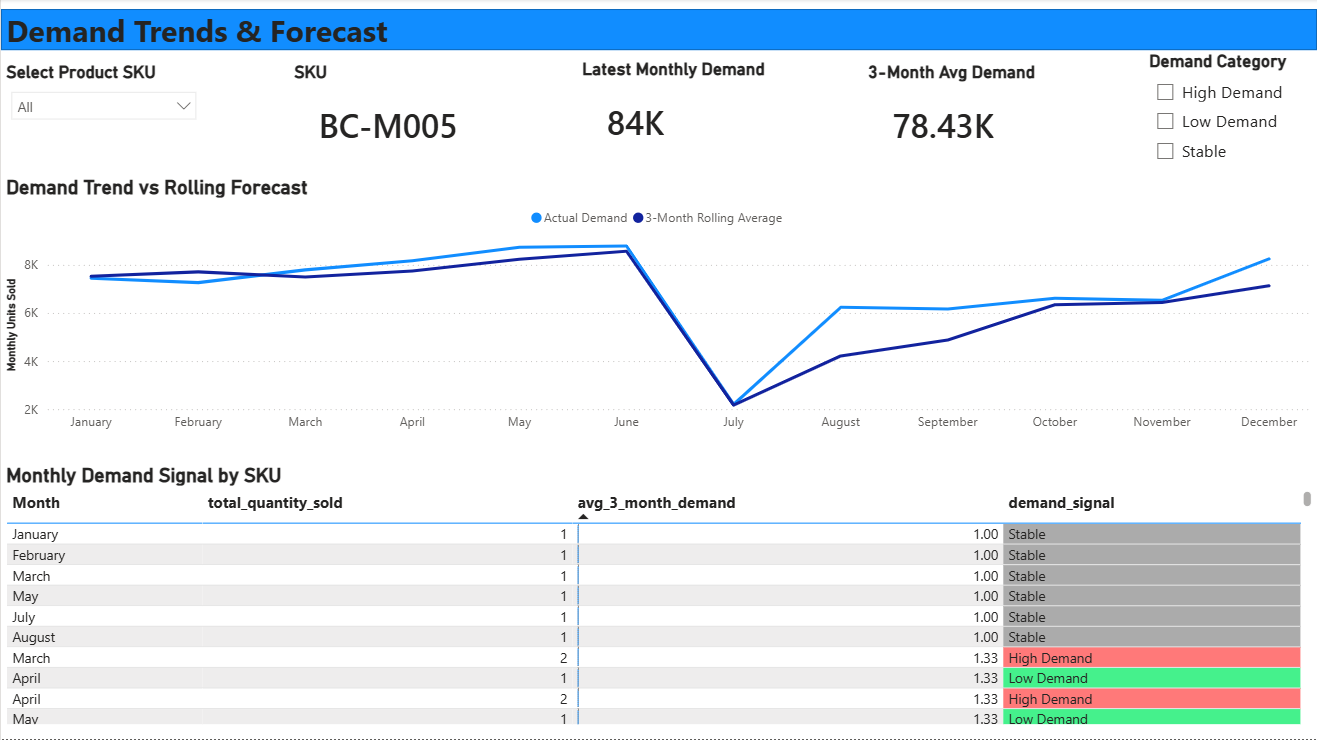

The dashboard page shown, as its layout file describes it:
{"tool":"powerbi","page":{"name":"Page 2","canvas":[1280,720],"ordinal":1},"visuals":[{"type":"slicer","title":"Select Product SKU","fields":{"Values":["Inventory Demand Signals.product_sku"]},"box":[0,61.3,200.4,100.2],"z":0},{"type":"slicer","title":"Demand Category","fields":{"Values":["Inventory Demand Signals.demand_signal"]},"box":[1111.7,50.6,168.3,115],"z":1000},{"type":"cardVisual","title":"SKU","fields":{"Data":["Min(Inventory Demand Signals.product_sku)"]},"box":[279.9,61.3,200.4,100.2],"z":2000},{"type":"cardVisual","title":"Latest Monthly Demand","fields":{"Data":["Sum(Inventory Demand Signals.total_quantity_sold)"]},"box":[559.8,58.4,199.4,99.2],"z":3000},{"type":"cardVisual","title":"3-Month Avg Demand","fields":{"Data":["Sum(Inventory Demand Signals.avg_3_month_demand)"]},"box":[838.7,61.3,199.4,100.2],"z":4000},{"type":"lineChart","title":"Demand Trend vs Rolling Forecast","fields":{"Category":["Inventory Demand Signals.sales_month.Variation.Date Hierarchy.Month"],"Y":["Sum(Inventory Demand Signals.total_quantity_sold)","Sum(Inventory Demand Signals.avg_3_month_demand)"]},"box":[0,171.2,1280,257.8],"z":5000},{"type":"tableEx","title":"Monthly Demand Signal by SKU","fields":{"Values":["Inventory Demand Signals.sales_month.Variation.Date Hierarchy.Month","Inventory Demand Signals.total_quantity_sold","Inventory Demand Signals.avg_3_month_demand","Inventory Demand Signals.demand_signal"]},"box":[0,451.3,1280,258.7],"z":6000},{"type":"shape","box":[0,10,1280,40],"z":7000},{"type":"textbox","title":"Demand Trends & Forecast","box":[0,10,404,40],"z":8000}]}

Visuals, with their boxes in screenshot pixels (x1, y1, x2, y2), scaled from the page's 1280x720 canvas onto the 1317x740 screenshot:
"Select Product SKU" slicer: <region>0, 63, 206, 166</region>
"Demand Category" slicer: <region>1144, 52, 1316, 170</region>
"SKU" cardVisual: <region>288, 63, 494, 166</region>
"Latest Monthly Demand" cardVisual: <region>576, 60, 781, 162</region>
"3-Month Avg Demand" cardVisual: <region>863, 63, 1068, 166</region>
"Demand Trend vs Rolling Forecast" lineChart: <region>0, 176, 1316, 441</region>
"Monthly Demand Signal by SKU" tableEx: <region>0, 464, 1316, 730</region>
shape: <region>0, 10, 1316, 51</region>
"Demand Trends & Forecast" textbox: <region>0, 10, 416, 51</region>
